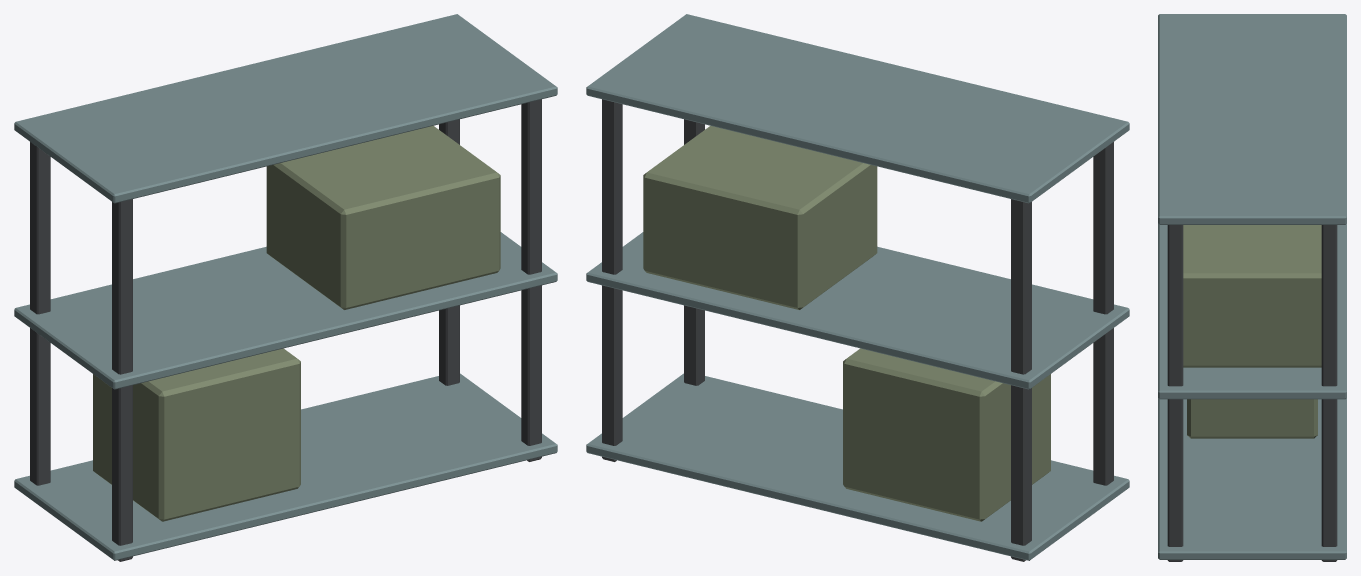
The model's file is shelf_unit_low.glb.
The picture shows the model from 3 angles, left to right: view 1: azimuth 30°, elevation 25°; view 2: azimuth 150°, elevation 25°; view 3: azimuth 270°, elevation 25°; orthographic projection. The views are drawn at different scales.
Parts seen in each view (by area): view 1: shelf_unit_low; view 2: shelf_unit_low; view 3: shelf_unit_low.
Boxes of the visible parts, left/top/right/bottom form: shelf_unit_low: left=14, top=14, right=557, bottom=561; shelf_unit_low: left=586, top=14, right=1129, bottom=561; shelf_unit_low: left=1158, top=14, right=1346, bottom=561.
Bounding box in the file's own units: 1.25 × 1 × 0.49.
